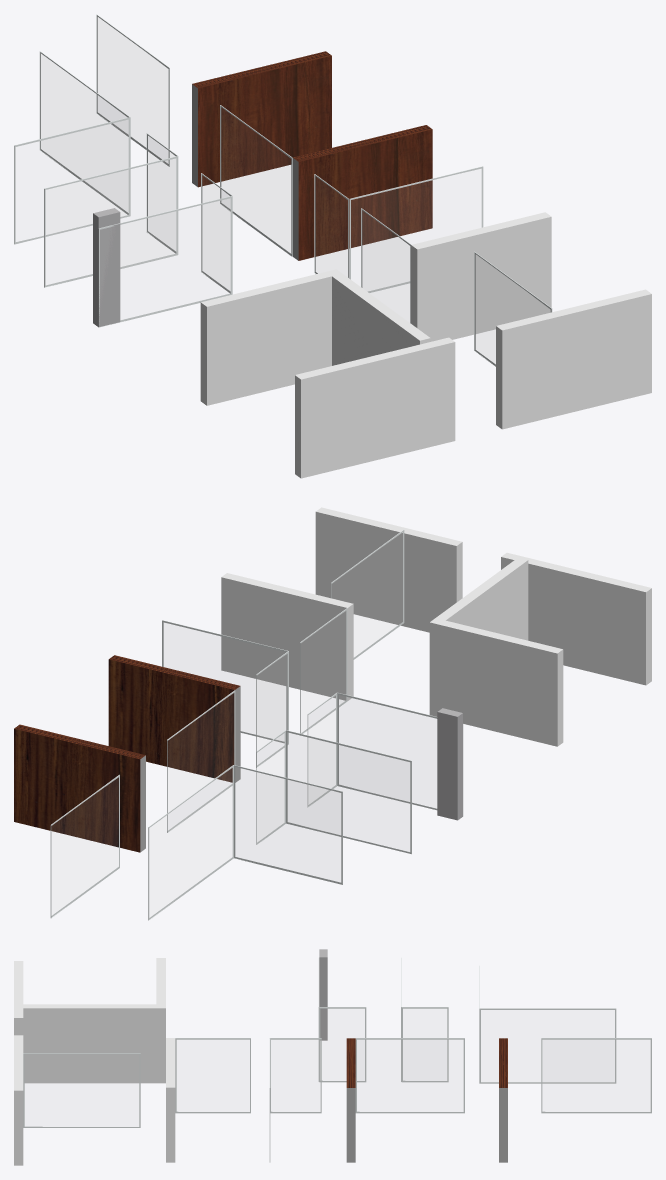
Rendered from paredes_p3.glb.
3 renders of one model, top to bottom at view 1: azimuth 30°, elevation 25°; view 2: azimuth 150°, elevation 25°; view 3: azimuth 270°, elevation 25°, orthographic. The views are drawn at different scales.
Parts seen in each view (by area): view 1: pared_frente.009, columna1.062, columna1.067, pared_frente.012, pared_frente.011, pared_frente.010, pared vidrio 1.014, a_1_export.051, a_1_export.050, a_1_export.039, a_1_export.041, a_1_export.042 (+2 smaller); view 2: pared_frente.009, pared_frente.011, columna1.067, pared_frente.012, columna1.062, pared_frente.010, pared vidrio 1.014, a_1_export.039, a_1_export.050, a_1_export.041, a_1_export.051, a_1_export.044 (+2 smaller); view 3: pared_frente.010, pared_frente.009, pared_frente.011, pared_frente.012, columna1.062, columna1.067, a_1_export.041, pared vidrio 1.014, a_1_export.049, a_1_export.042, a_1_export.043, a_1_export.040 (+3 smaller).
Part boxes in pixels (x1,y1,x2,y2): pared_frente.009: [295, 289, 651, 478]; columna1.062: [292, 125, 432, 260]; columna1.067: [192, 51, 331, 187]; pared_frente.012: [411, 212, 551, 341]; pared_frente.011: [200, 269, 342, 405]; pared_frente.010: [332, 273, 430, 365]; pared vidrio 1.014: [93, 208, 120, 327]; a_1_export.051: [98, 196, 232, 327]; a_1_export.050: [44, 156, 177, 287]; a_1_export.039: [14, 117, 129, 244]; a_1_export.041: [39, 51, 130, 216]; a_1_export.042: [220, 105, 292, 256]; pared_frente.009: [315, 507, 651, 685]; pared_frente.011: [429, 618, 563, 746]; columna1.067: [14, 724, 145, 852]; pared_frente.012: [221, 573, 353, 700]; columna1.062: [108, 655, 240, 782]; pared_frente.010: [436, 557, 528, 640]; pared vidrio 1.014: [437, 708, 462, 820]; a_1_export.039: [233, 765, 342, 884]; a_1_export.050: [286, 730, 411, 854]; a_1_export.041: [148, 765, 233, 920]; a_1_export.051: [337, 692, 463, 816]; a_1_export.044: [162, 620, 287, 743]; pared_frente.010: [23, 1004, 156, 1083]; pared_frente.009: [14, 961, 23, 1165]; pared_frente.011: [156, 958, 165, 1083]; pared_frente.012: [166, 1038, 175, 1162]; columna1.062: [346, 1038, 355, 1162]; columna1.067: [499, 1038, 507, 1162]; a_1_export.041: [479, 1008, 616, 1083]; pared vidrio 1.014: [319, 949, 327, 1040]; a_1_export.049: [541, 1038, 651, 1113]; a_1_export.042: [355, 1038, 464, 1113]; a_1_export.043: [23, 1053, 140, 1127]; a_1_export.040: [175, 1038, 250, 1113].
Size of the model in its own units: 58.8 by 18.19 by 122.
Materials: 6 (1 with a texture image).
